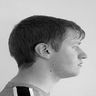ear: (32, 38, 55, 64)
